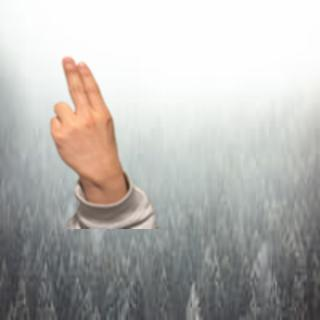DHAVE: (41, 51, 127, 187)
